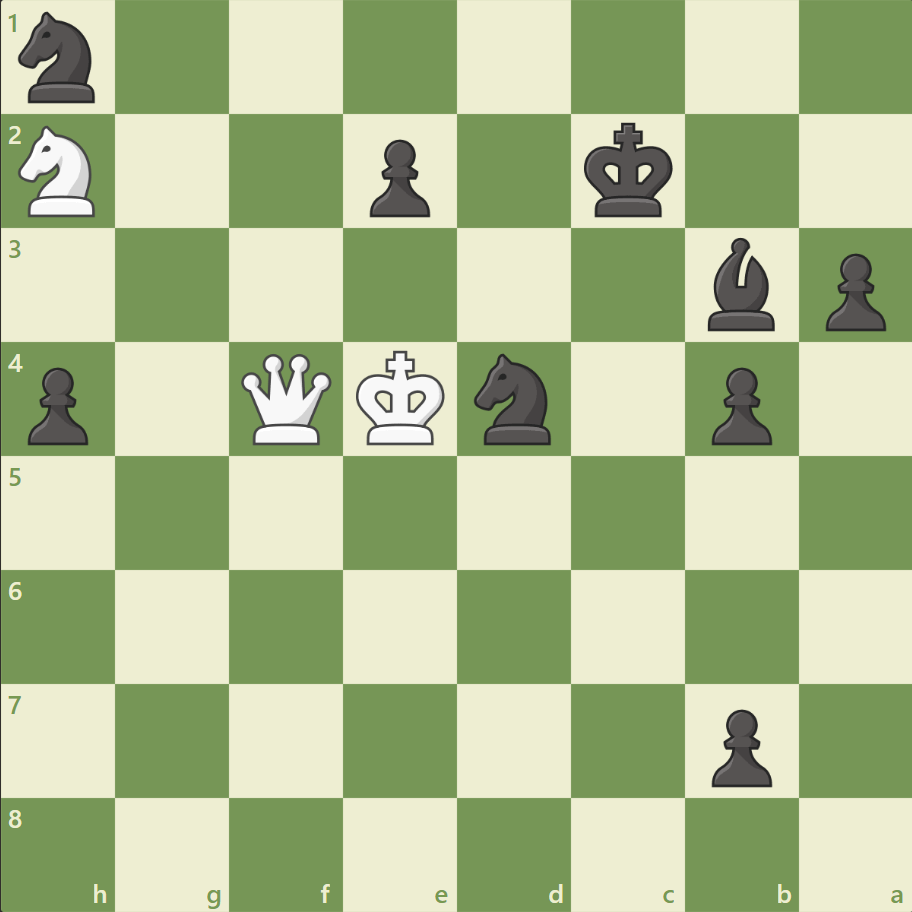K: (351, 344, 451, 452)
N: (11, 121, 108, 223)
Q: (237, 349, 336, 449)
b: (698, 233, 782, 336)
k: (579, 117, 679, 225)
n: (11, 7, 108, 110), (465, 348, 562, 450)
p: (701, 700, 776, 791), (701, 359, 776, 450), (20, 359, 95, 450), (815, 246, 889, 337), (361, 132, 435, 223)
